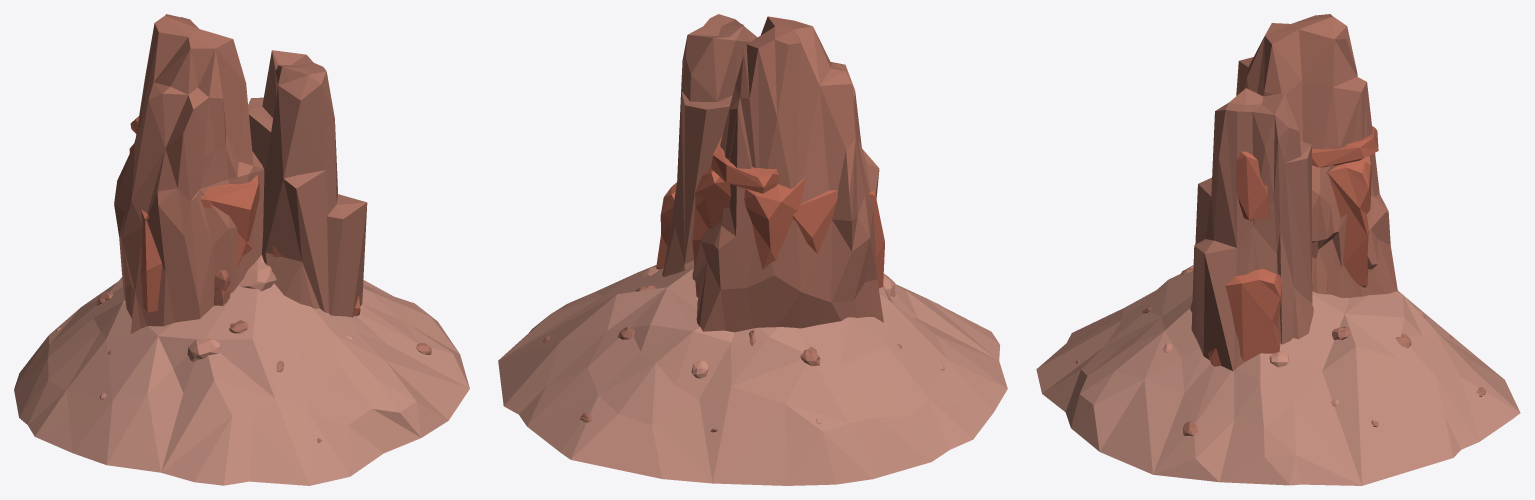
The model's file is crag_013.fbx.
3 renders of one model, left to right at view 1: azimuth 30°, elevation 25°; view 2: azimuth 150°, elevation 25°; view 3: azimuth 270°, elevation 25°, orthographic. The views are drawn at different scales.
Visible parts, largest first — view 1: crag_013; view 2: crag_013; view 3: crag_013.
Part boxes in pixels (x1,y1,x2,y2): crag_013: (14,14,469,485); crag_013: (498,14,1007,485); crag_013: (1036,14,1520,485).
Size of the model in its own units: 7070 by 7303 by 6014.
